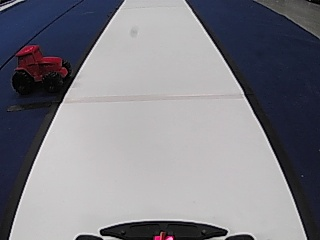tractor: (11, 42, 70, 95)
